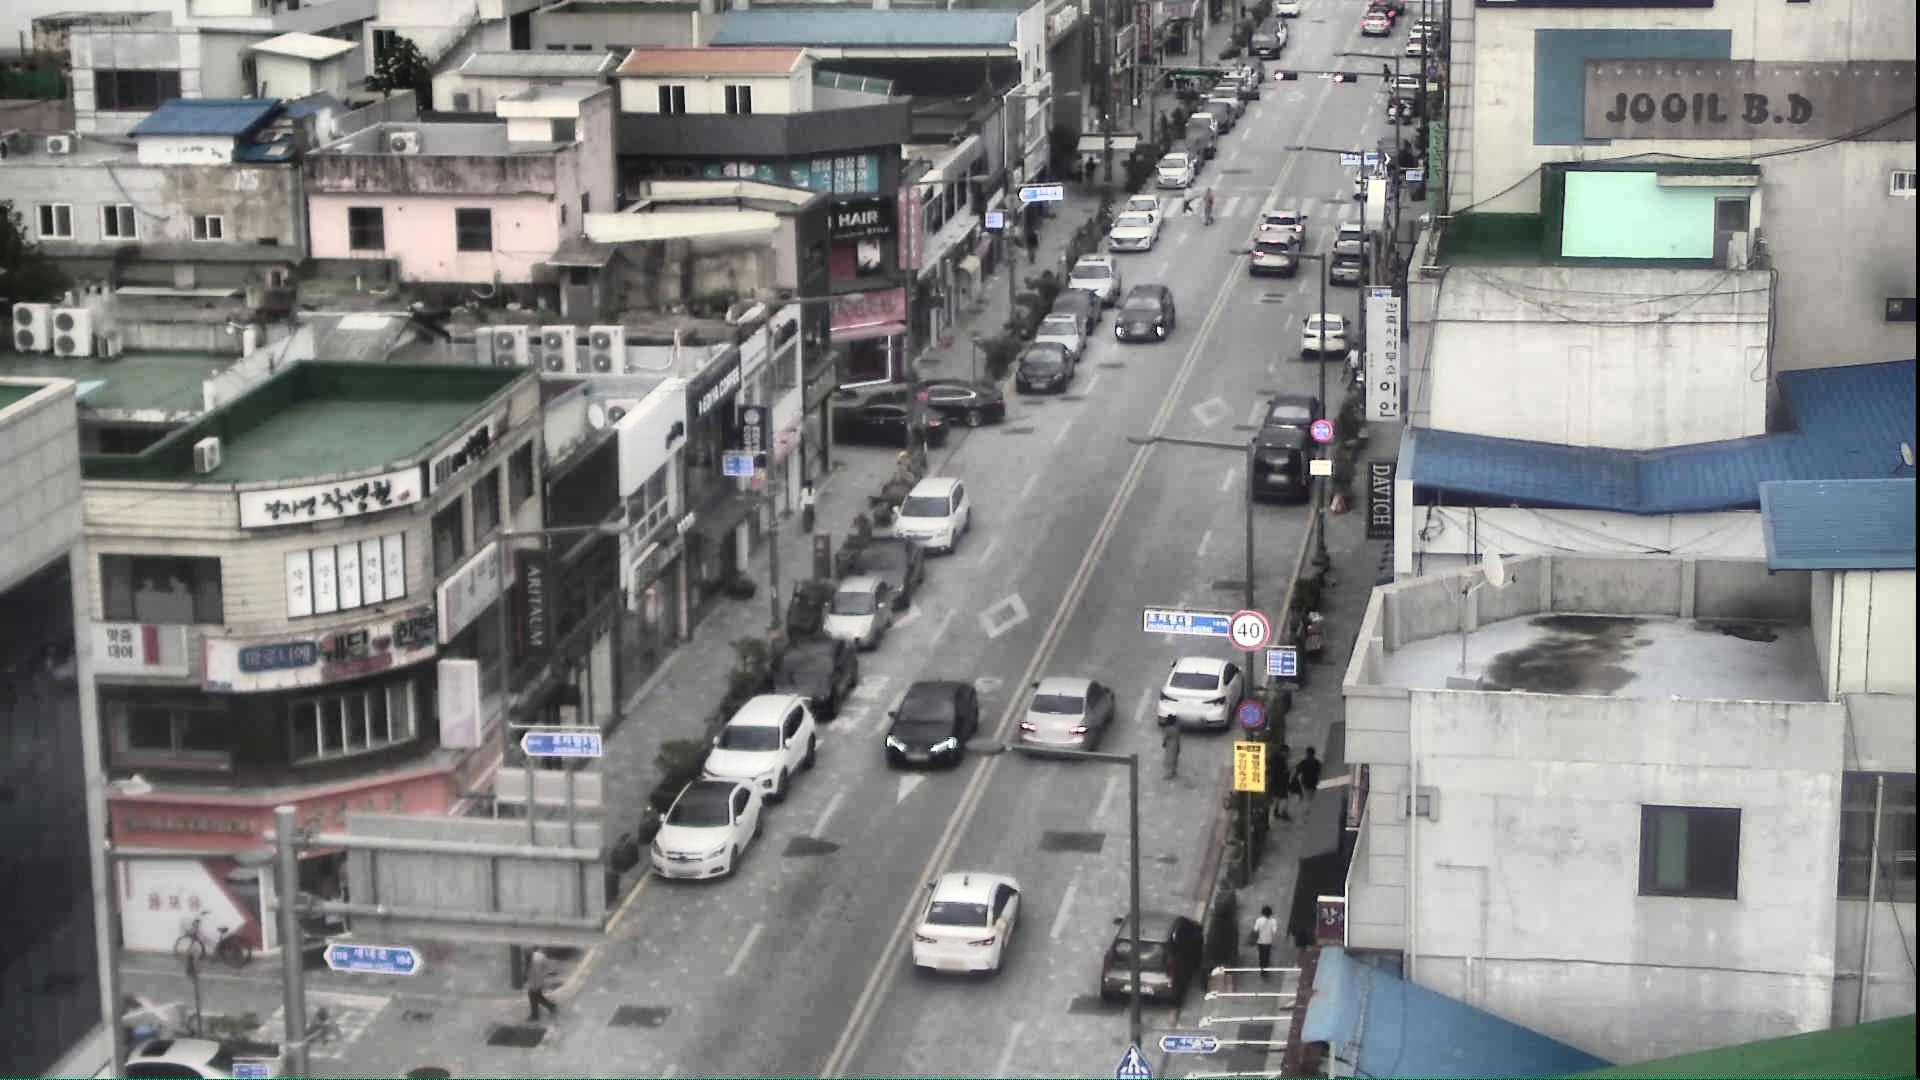crosswalk: (1200, 183, 1216, 229), (1180, 181, 1195, 216)
jaywalk: (520, 935, 558, 1022), (1156, 711, 1182, 791), (1375, 63, 1391, 94)
sidewalk: (1251, 902, 1280, 981), (1269, 738, 1294, 820), (1296, 741, 1323, 812), (793, 480, 822, 535), (1022, 224, 1039, 266)
